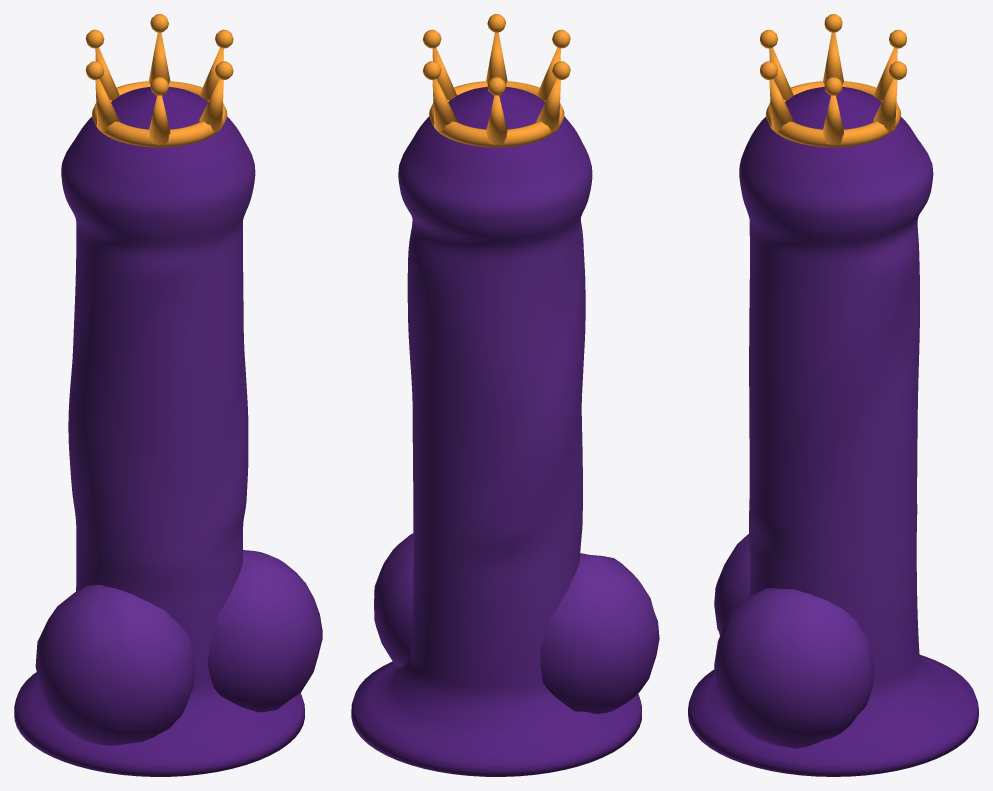
The model's file is king_purple.glb.
3 renders of one model, left to right at view 1: azimuth 30°, elevation 25°; view 2: azimuth 150°, elevation 25°; view 3: azimuth 270°, elevation 25°, orthographic.
Visible parts, largest first — view 1: king, crown; view 2: king, crown; view 3: king, crown.
Part boxes in pixels (x1,y1,x2,y2): king: [14, 87, 322, 776]; crown: [85, 14, 233, 147]; king: [351, 87, 659, 776]; crown: [423, 14, 570, 147]; king: [688, 87, 978, 776]; crown: [760, 14, 906, 147].
Size of the model in its own units: 0.55 by 1.33 by 0.524.
